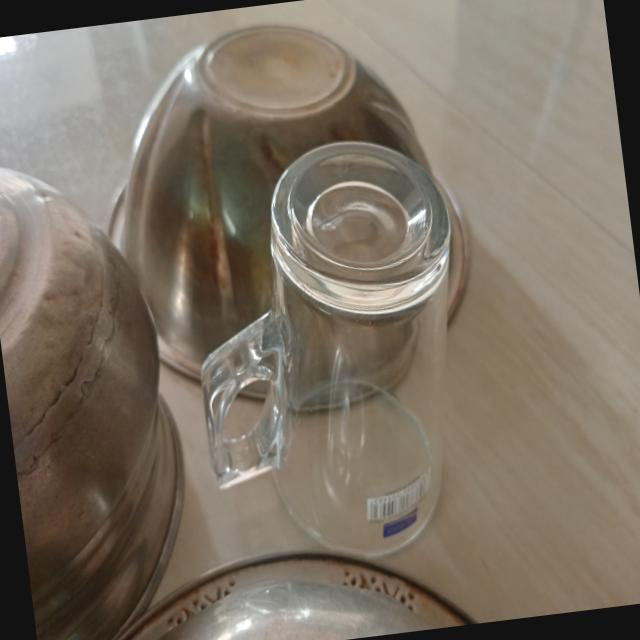glass-VX4N: (172, 128, 492, 572)
